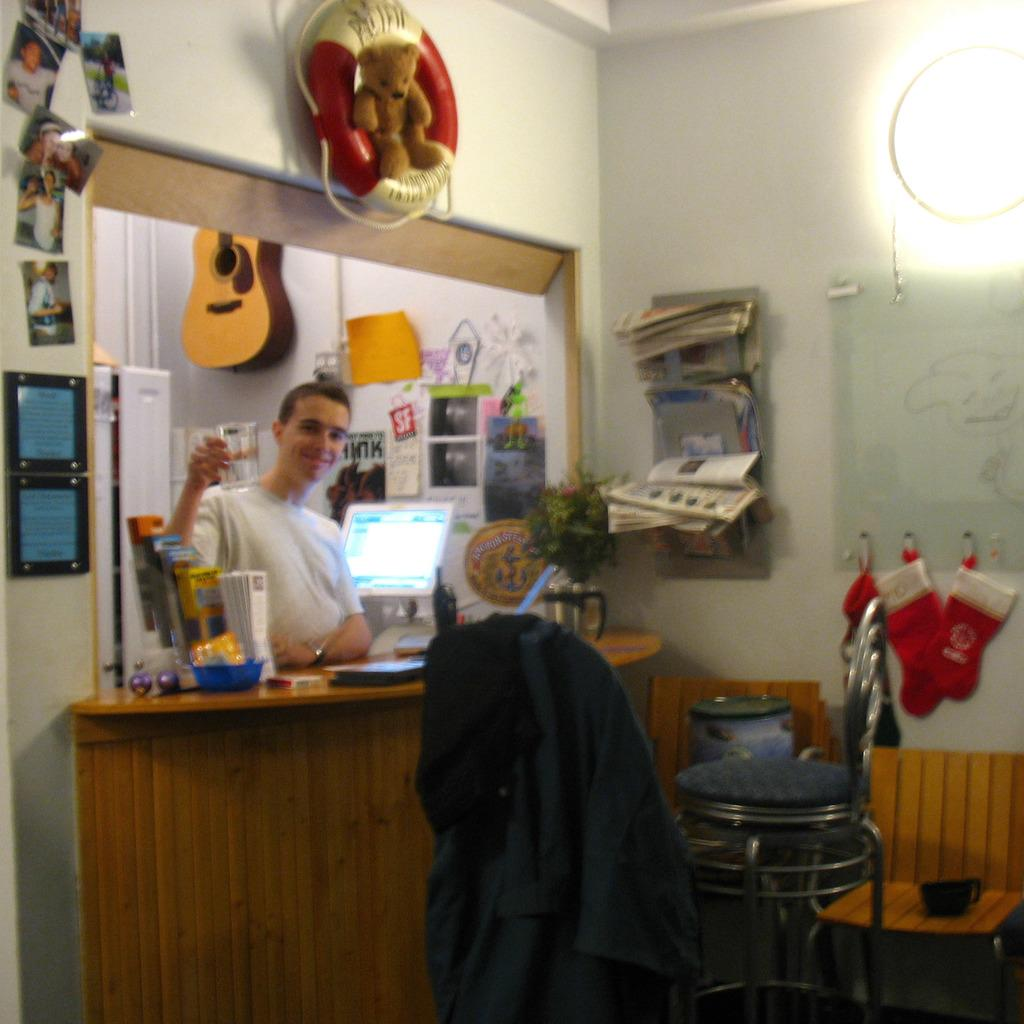Chair: (419, 610, 732, 1023), (660, 641, 906, 995), (803, 745, 1023, 1023)
